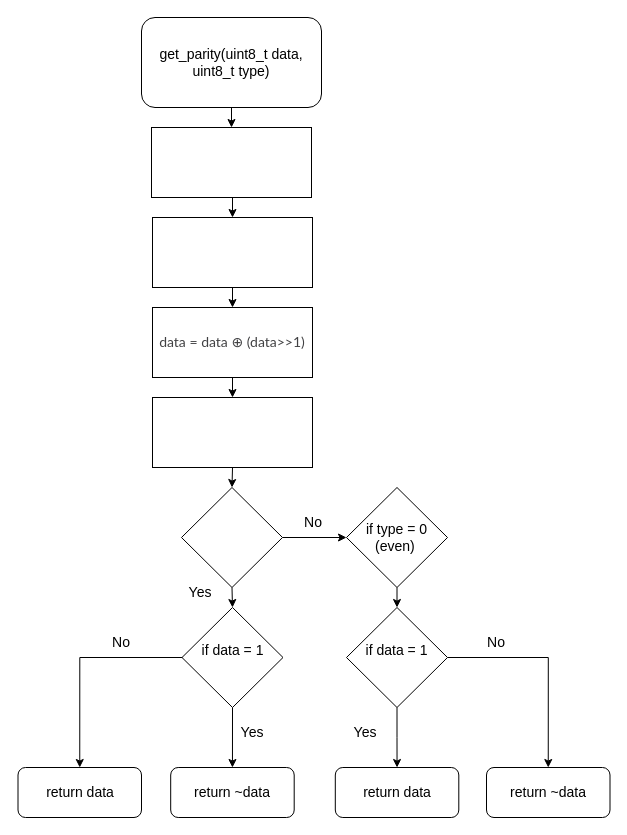
Some shapes in this 627 by 835 pixel diagram are drawn without their labels. Here are the shapes that lost their labels. From the top down, the centre of each, then its label:
At point 231,162: "data = data ⊕ (data>>4)".
At point 232,252: "data = data ⊕ (data>>2)".
At point 232,432: "data = data AND binary 1".
At point 231,537: "if type = 1 (odd)".
